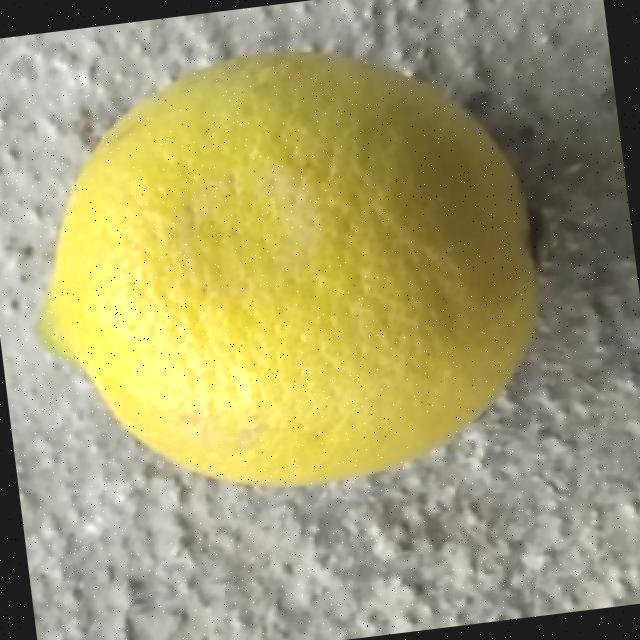Ripe: (0, 20, 582, 521)
